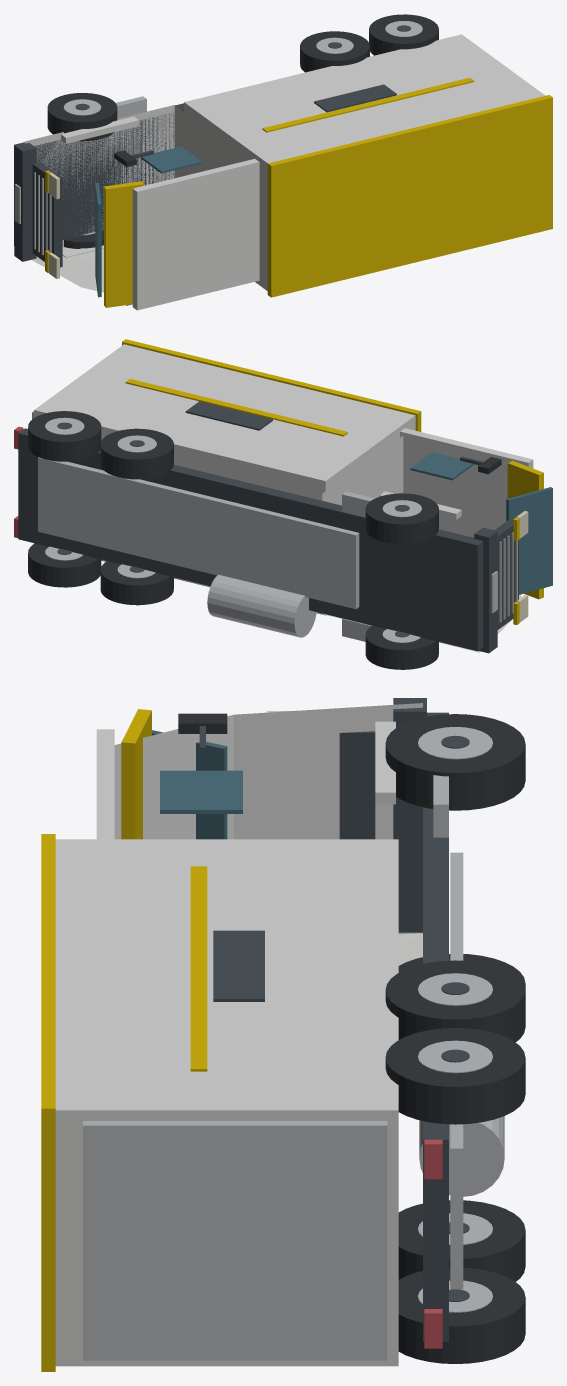
The model's file is ZAZOHAN_YH10.glb.
The picture shows the model from 3 angles, top to bottom: view 1: azimuth 30°, elevation 25°; view 2: azimuth 150°, elevation 25°; view 3: azimuth 270°, elevation 25°; orthographic projection. The views are drawn at different scales.
Parts seen in each view (by area): view 1: CargoRoof, CargoBox, CabRoof, CabShell, Chassis, SunVisor, Bumper, Tyre_0_R, Grille, Tyre_1_R, Tyre_2_R, LiveryR (+9 smaller); view 2: CargoBox, FrameInner, Chassis, CabRoof, FuelTank, CabShell, Windshield, Tyre_1_R, Tyre_0_R, Tyre_2_R, Tyre_0_L, Tyre_2_L (+13 smaller); view 3: CargoBox, RearDoor, CabShell, Tyre_2_R, Tyre_0_R, Chassis, CargoRoof, Tyre_2_L, Tyre_1_R, Tyre_1_L, Bumper, Grille (+15 smaller).
Part boxes in pixels (left/top/right/bottom): CargoRoof: left=267, top=95, right=552, bottom=297; CargoBox: left=184, top=34, right=545, bottom=290; CabRoof: left=132, top=159, right=259, bottom=310; CabShell: left=25, top=105, right=248, bottom=292; Chassis: left=14, top=103, right=183, bottom=245; SunVisor: left=104, top=181, right=144, bottom=307; Bumper: left=14, top=143, right=36, bottom=261; Tyre_0_R: left=47, top=93, right=117, bottom=141; Grille: left=32, top=162, right=62, bottom=267; Tyre_1_R: left=300, top=31, right=369, bottom=72; Tyre_2_R: left=369, top=14, right=438, bottom=55; LiveryR: left=262, top=77, right=474, bottom=132; CargoBox: left=34, top=344, right=415, bottom=615; FrameInner: left=38, top=457, right=359, bottom=609; Chassis: left=18, top=428, right=483, bottom=651; CabRoof: left=400, top=428, right=533, bottom=537; FuelTank: left=207, top=574, right=316, bottom=637; CabShell: left=322, top=435, right=521, bottom=652; Windshield: left=506, top=487, right=552, bottom=594; Tyre_1_R: left=100, top=428, right=173, bottom=479; Tyre_0_R: left=365, top=493, right=438, bottom=543; Tyre_2_R: left=28, top=411, right=101, bottom=461; Tyre_0_L: left=365, top=625, right=438, bottom=669; Tyre_2_L: left=28, top=543, right=101, bottom=587; CargoBox: left=55, top=839, right=398, bottom=1366; RearDoor: left=83, top=1121, right=387, bottom=1360; CabShell: left=114, top=703, right=422, bottom=965; Tyre_2_R: left=385, top=1028, right=525, bottom=1124; Tyre_0_R: left=385, top=714, right=525, bottom=810; Chassis: left=423, top=712, right=448, bottom=1341; CargoRoof: left=41, top=834, right=55, bottom=1371; Tyre_2_L: left=398, top=1267, right=525, bottom=1363; Tyre_1_R: left=385, top=960, right=525, bottom=1042; Tyre_1_L: left=398, top=1200, right=525, bottom=1281; Bumper: left=393, top=698, right=426, bottom=932; Grille: left=339, top=731, right=375, bottom=839.
Size of the model in its own units: 8.02 by 2.47 by 3.73.
